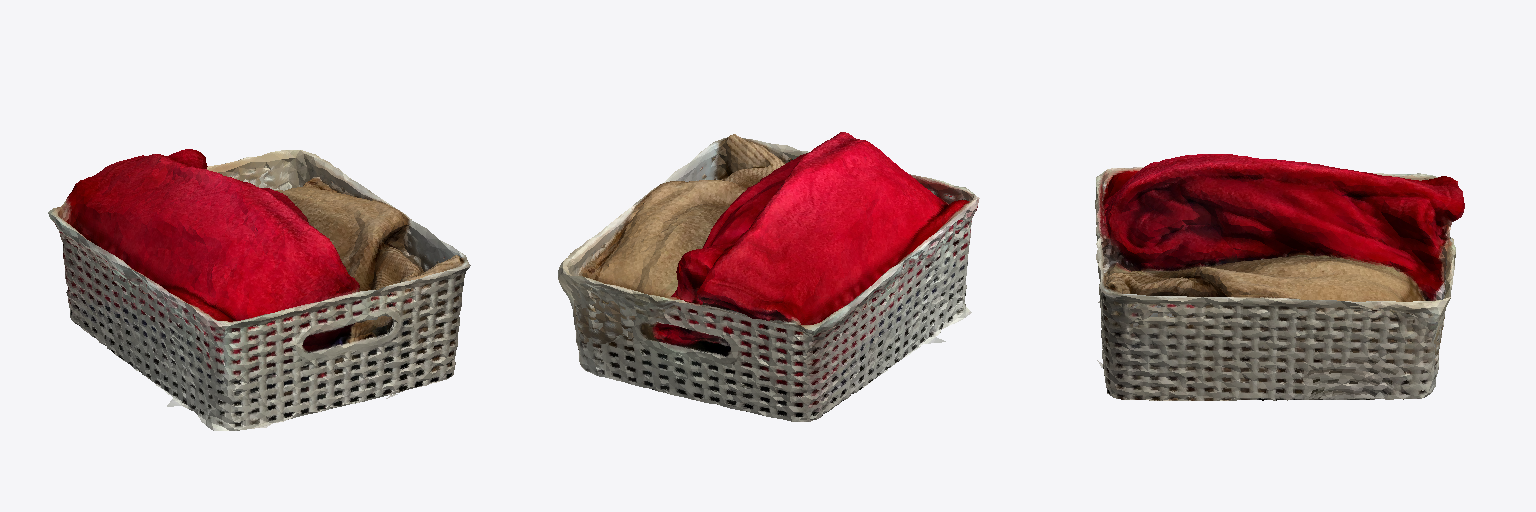
The picture shows the model from 3 angles: view 1: azimuth 30°, elevation 25°; view 2: azimuth 150°, elevation 25°; view 3: azimuth 270°, elevation 25°; orthographic projection.
Bounding box in the file's own units: 0.3987 × 0.2425 × 0.4739.
Materials: 1 (1 with a texture image).